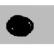correct: (4, 12, 40, 42)
